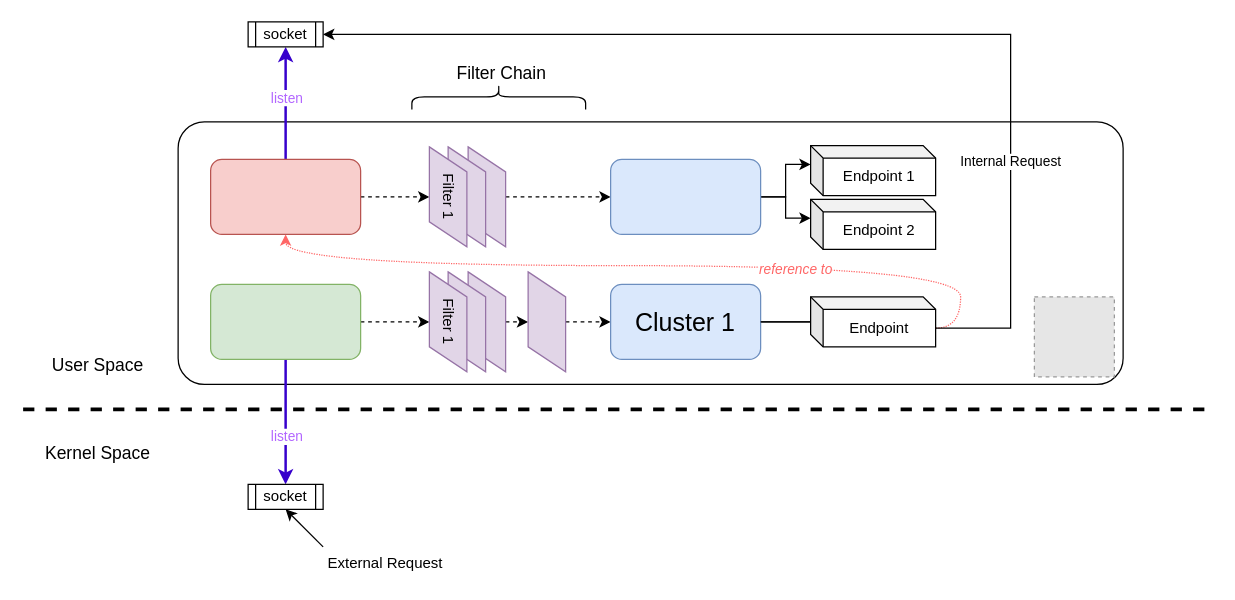
Some shapes in this 1235 by 600 pixel diagram are drawn without their labels. Grey dashed boxes stand in for pictures. The shapes that lost their labels are listed below. From the top down, each one's box as (x1, y1, x2, y2) in pixels, then its label:
(209, 158, 361, 234): Internal Listener
(609, 158, 761, 234): Cluster 2
(209, 283, 361, 359): Listener
(527, 271, 566, 372): HCM
